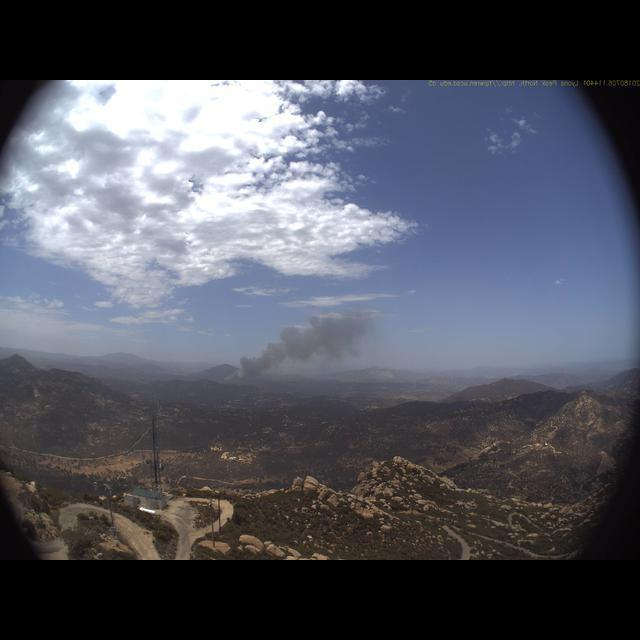Smoke: (218, 302, 384, 390)
